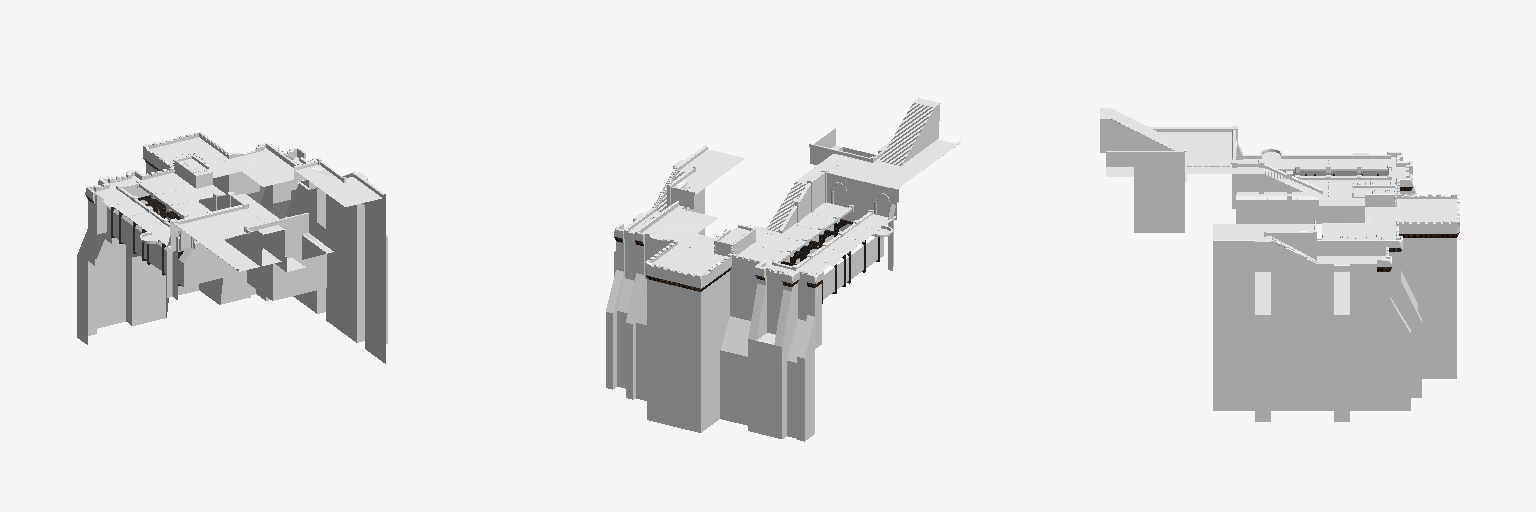
The picture shows the model from 3 angles: view 1: azimuth 30°, elevation 25°; view 2: azimuth 150°, elevation 25°; view 3: azimuth 270°, elevation 25°; orthographic projection.
Parts seen in each view (by area): view 1: mesh2, mesh12, mesh13, mesh6, mesh1, mesh9; view 2: mesh2, mesh12, mesh3, mesh13, mesh6, mesh1, mesh9; view 3: mesh2, mesh12, mesh13, mesh3, mesh6, mesh9.
Boxes of the visible parts, x1=… form: mesh2: x1=77, y1=133, x2=387, y2=363; mesh12: x1=93, y1=137, x2=381, y2=271; mesh13: x1=102, y1=137, x2=293, y2=242; mesh6: x1=116, y1=160, x2=321, y2=299; mesh1: x1=111, y1=195, x2=183, y2=285; mesh9: x1=87, y1=132, x2=305, y2=192; mesh2: x1=606, y1=104, x2=960, y2=441; mesh12: x1=630, y1=98, x2=954, y2=274; mesh3: x1=657, y1=102, x2=934, y2=231; mesh13: x1=651, y1=205, x2=888, y2=274; mesh6: x1=667, y1=171, x2=898, y2=270; mesh1: x1=781, y1=219, x2=879, y2=303; mesh9: x1=614, y1=201, x2=822, y2=276; mesh2: x1=1100, y1=119, x2=1459, y2=421; mesh12: x1=1100, y1=109, x2=1456, y2=262; mesh13: x1=1238, y1=152, x2=1456, y2=239; mesh3: x1=1111, y1=109, x2=1320, y2=260; mesh6: x1=1232, y1=130, x2=1391, y2=260; mesh9: x1=1317, y1=152, x2=1459, y2=263.
Size of the model in its own units: 73.31 by 63.11 by 95.69.
14 materials, 3 textured.